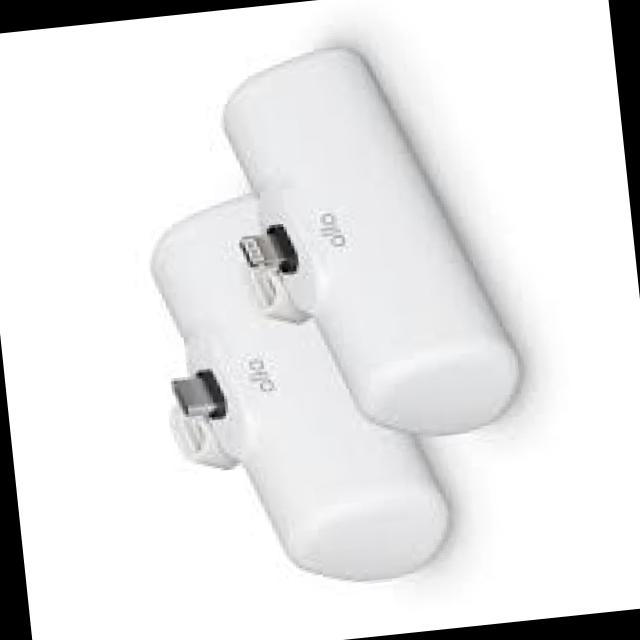power_bank: (214, 19, 533, 454), (137, 165, 454, 602)
